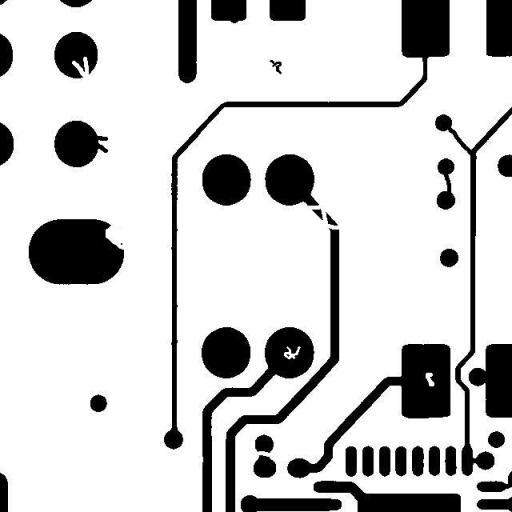copper: (262, 52, 288, 82)
mousebite: (98, 213, 134, 257), (64, 48, 97, 90)
open: (297, 195, 349, 237), (250, 443, 282, 465)
pin-hole: (276, 338, 308, 366), (418, 364, 442, 394)
short: (435, 116, 484, 167), (434, 152, 458, 203)
spur: (81, 127, 115, 160)
